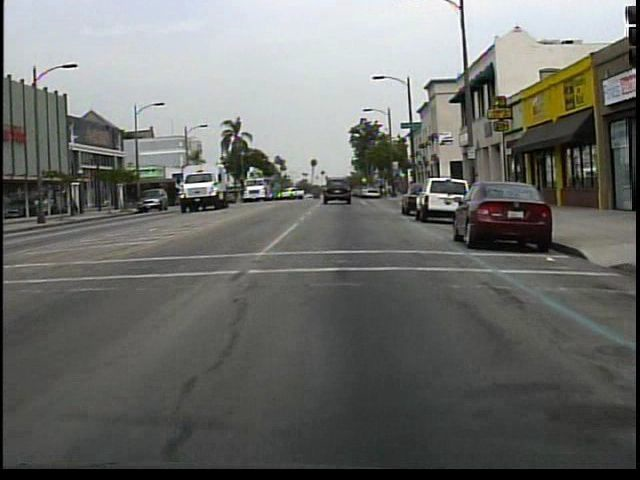person: (71, 192, 81, 217)
